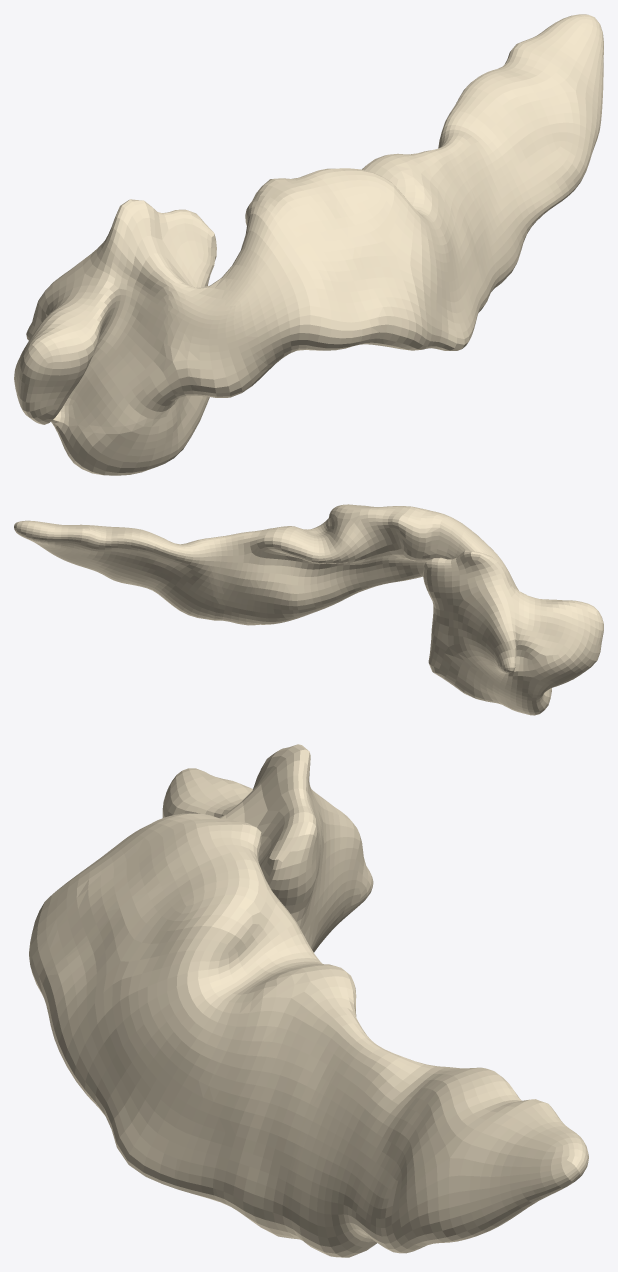
The model's file is 3d-vh-f-pancreas.glb.
3 views of the same model, one above another, from view 1: azimuth 30°, elevation 25°; view 2: azimuth 150°, elevation 25°; view 3: azimuth 270°, elevation 25° (orthographic). The views are drawn at different scales.
Parts seen in each view (by area): view 1: VH_F_body_of_pancreas, VH_F_tail_of_pancreas, VH_F_head_of_pancreas, VH_F_neck_of_pancreas, VH_F_ucinate_process1; view 2: VH_F_tail_of_pancreas, VH_F_head_of_pancreas, VH_F_body_of_pancreas, VH_F_ucinate_process1; view 3: VH_F_tail_of_pancreas, VH_F_body_of_pancreas, VH_F_head_of_pancreas.
Boxes of the visible parts, bbox=[...] form: VH_F_body_of_pancreas: bbox=[225, 162, 474, 365]; VH_F_tail_of_pancreas: bbox=[370, 14, 603, 328]; VH_F_head_of_pancreas: bbox=[14, 199, 216, 431]; VH_F_neck_of_pancreas: bbox=[179, 273, 273, 397]; VH_F_ucinate_process1: bbox=[51, 395, 209, 475]; VH_F_tail_of_pancreas: bbox=[14, 520, 294, 625]; VH_F_head_of_pancreas: bbox=[423, 550, 603, 694]; VH_F_body_of_pancreas: bbox=[287, 504, 498, 619]; VH_F_ucinate_process1: bbox=[428, 639, 551, 715]; VH_F_tail_of_pancreas: bbox=[176, 967, 588, 1257]; VH_F_body_of_pancreas: bbox=[29, 813, 341, 1190]; VH_F_head_of_pancreas: bbox=[162, 744, 373, 952].
Size of the model in its own units: 0.172 by 0.0565 by 0.0844.
